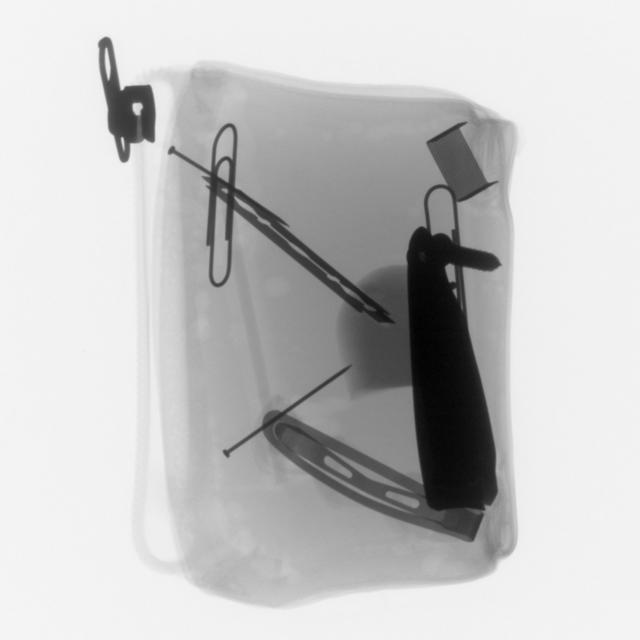pin: (200, 115, 241, 298)
razor: (200, 170, 416, 338), (419, 114, 502, 205)
snail: (219, 364, 356, 464)
